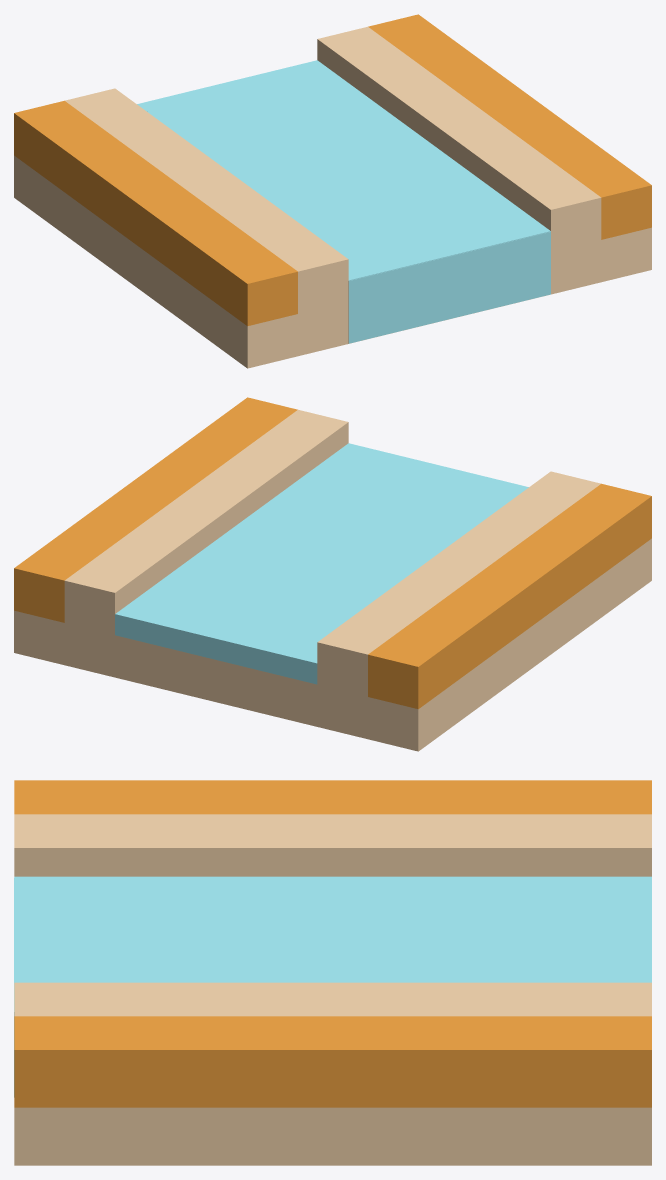
The model's file is autumn_river_straight_end.fbx.
3 renders of one model, top to bottom at view 1: azimuth 30°, elevation 25°; view 2: azimuth 150°, elevation 25°; view 3: azimuth 270°, elevation 25°, orthographic. The views are drawn at different scales.
Visible parts, largest first — view 1: tile_riverStraight, Cube; view 2: tile_riverStraight; view 3: tile_riverStraight.
Boxes of the visible parts, x1=… form: tile_riverStraight: x1=14, y1=14, x2=651, y2=368; Cube: x1=348, y1=232, x2=550, y2=343; tile_riverStraight: x1=14, y1=397, x2=651, y2=751; tile_riverStraight: x1=14, y1=780, x2=651, y2=1165.
Bounding box in the file's own units: 100 × 20 × 100.
